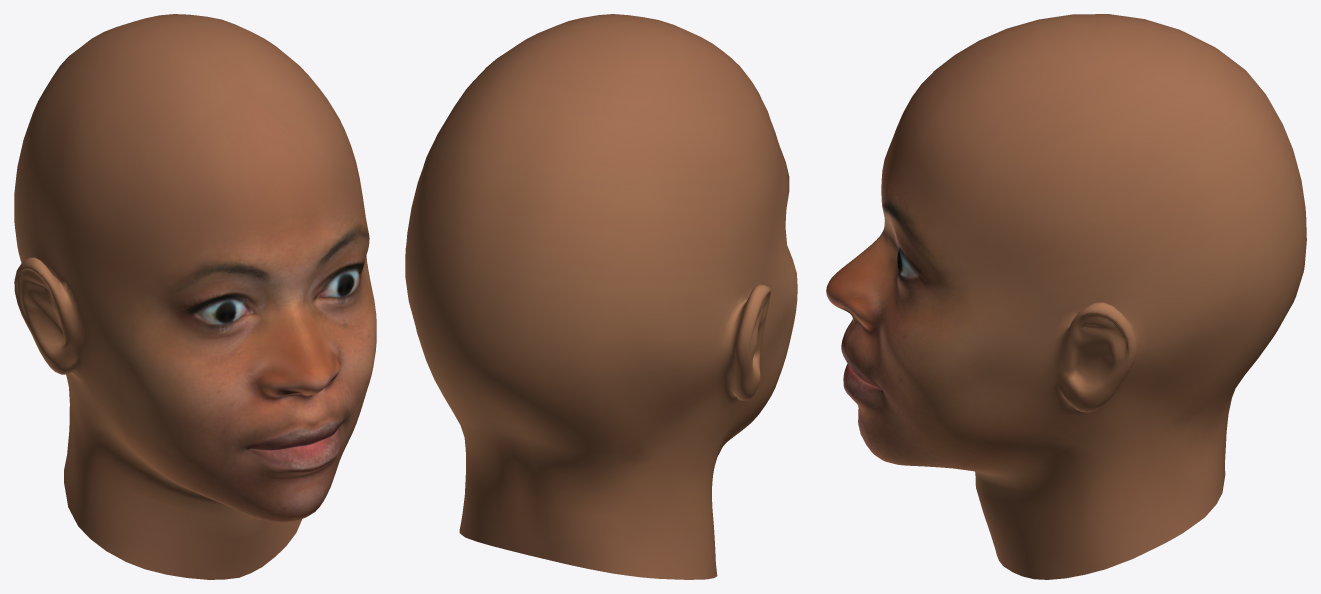
File: v332_obj_ModifierUpperLidRaiser(AU05).obj
3 views of the same model, side by side, from view 1: azimuth 30°, elevation 25°; view 2: azimuth 150°, elevation 25°; view 3: azimuth 270°, elevation 25° (orthographic). The views are drawn at different scales.
Visible parts, largest first — view 1: HeadHires; view 2: HeadHires; view 3: HeadHires.
Part boxes in pixels (x1,y1,x2,y2): HeadHires: (14,14,376,579); HeadHires: (405,14,797,579); HeadHires: (826,14,1306,579).
Size of the model in its own units: 187 by 282 by 233.
